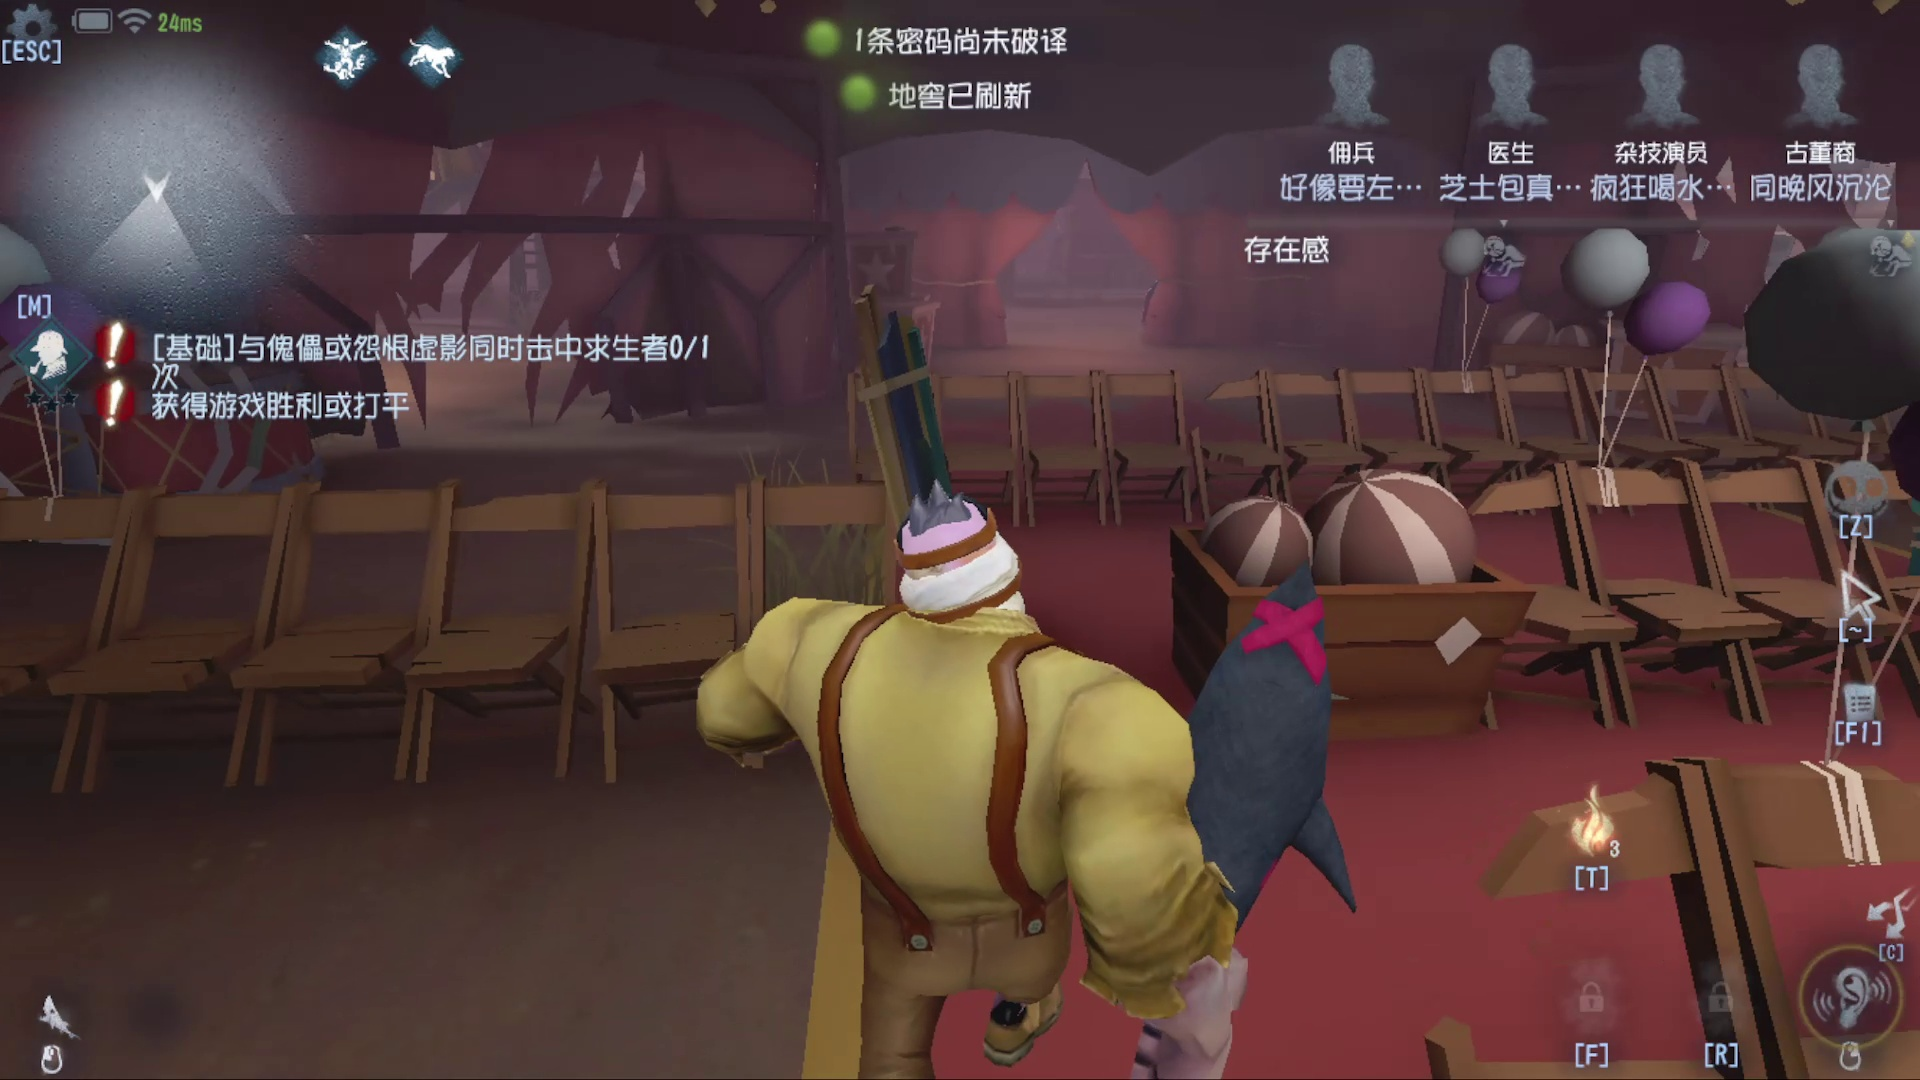木板: (814, 276, 1026, 661)
